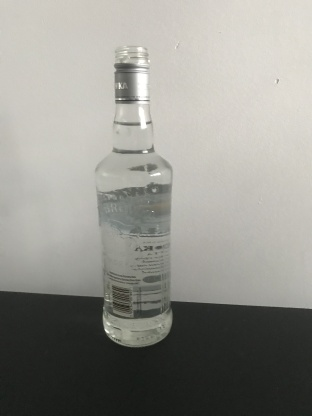nakretka: (112, 44, 152, 104)
